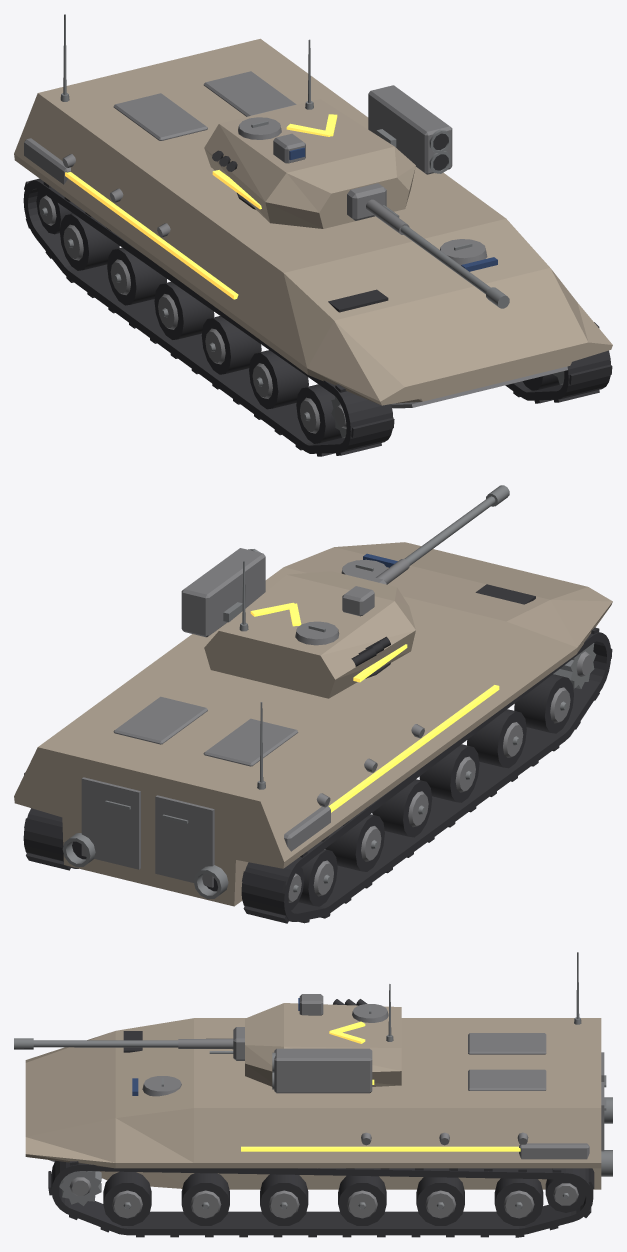
Rendered from ifv_red.glb.
The picture shows the model from 3 angles, top to bottom: view 1: azimuth 30°, elevation 25°; view 2: azimuth 150°, elevation 25°; view 3: azimuth 270°, elevation 25°; orthographic projection. The views are drawn at different scales.
Visible parts, largest first — view 1: body, turret, gun; view 2: body, turret, gun; view 3: body, turret, gun.
Part boxes in pixels (x1,y1,x2,y2): body: [14, 14, 612, 456]; turret: [204, 39, 452, 228]; gun: [347, 183, 509, 308]; body: [14, 542, 612, 923]; turret: [181, 548, 415, 698]; gun: [351, 485, 509, 584]; body: [25, 952, 612, 1237]; turret: [245, 984, 401, 1093]; gun: [14, 1027, 244, 1060].
Size of the model in its own units: 3.3 by 3.03 by 7.65.
